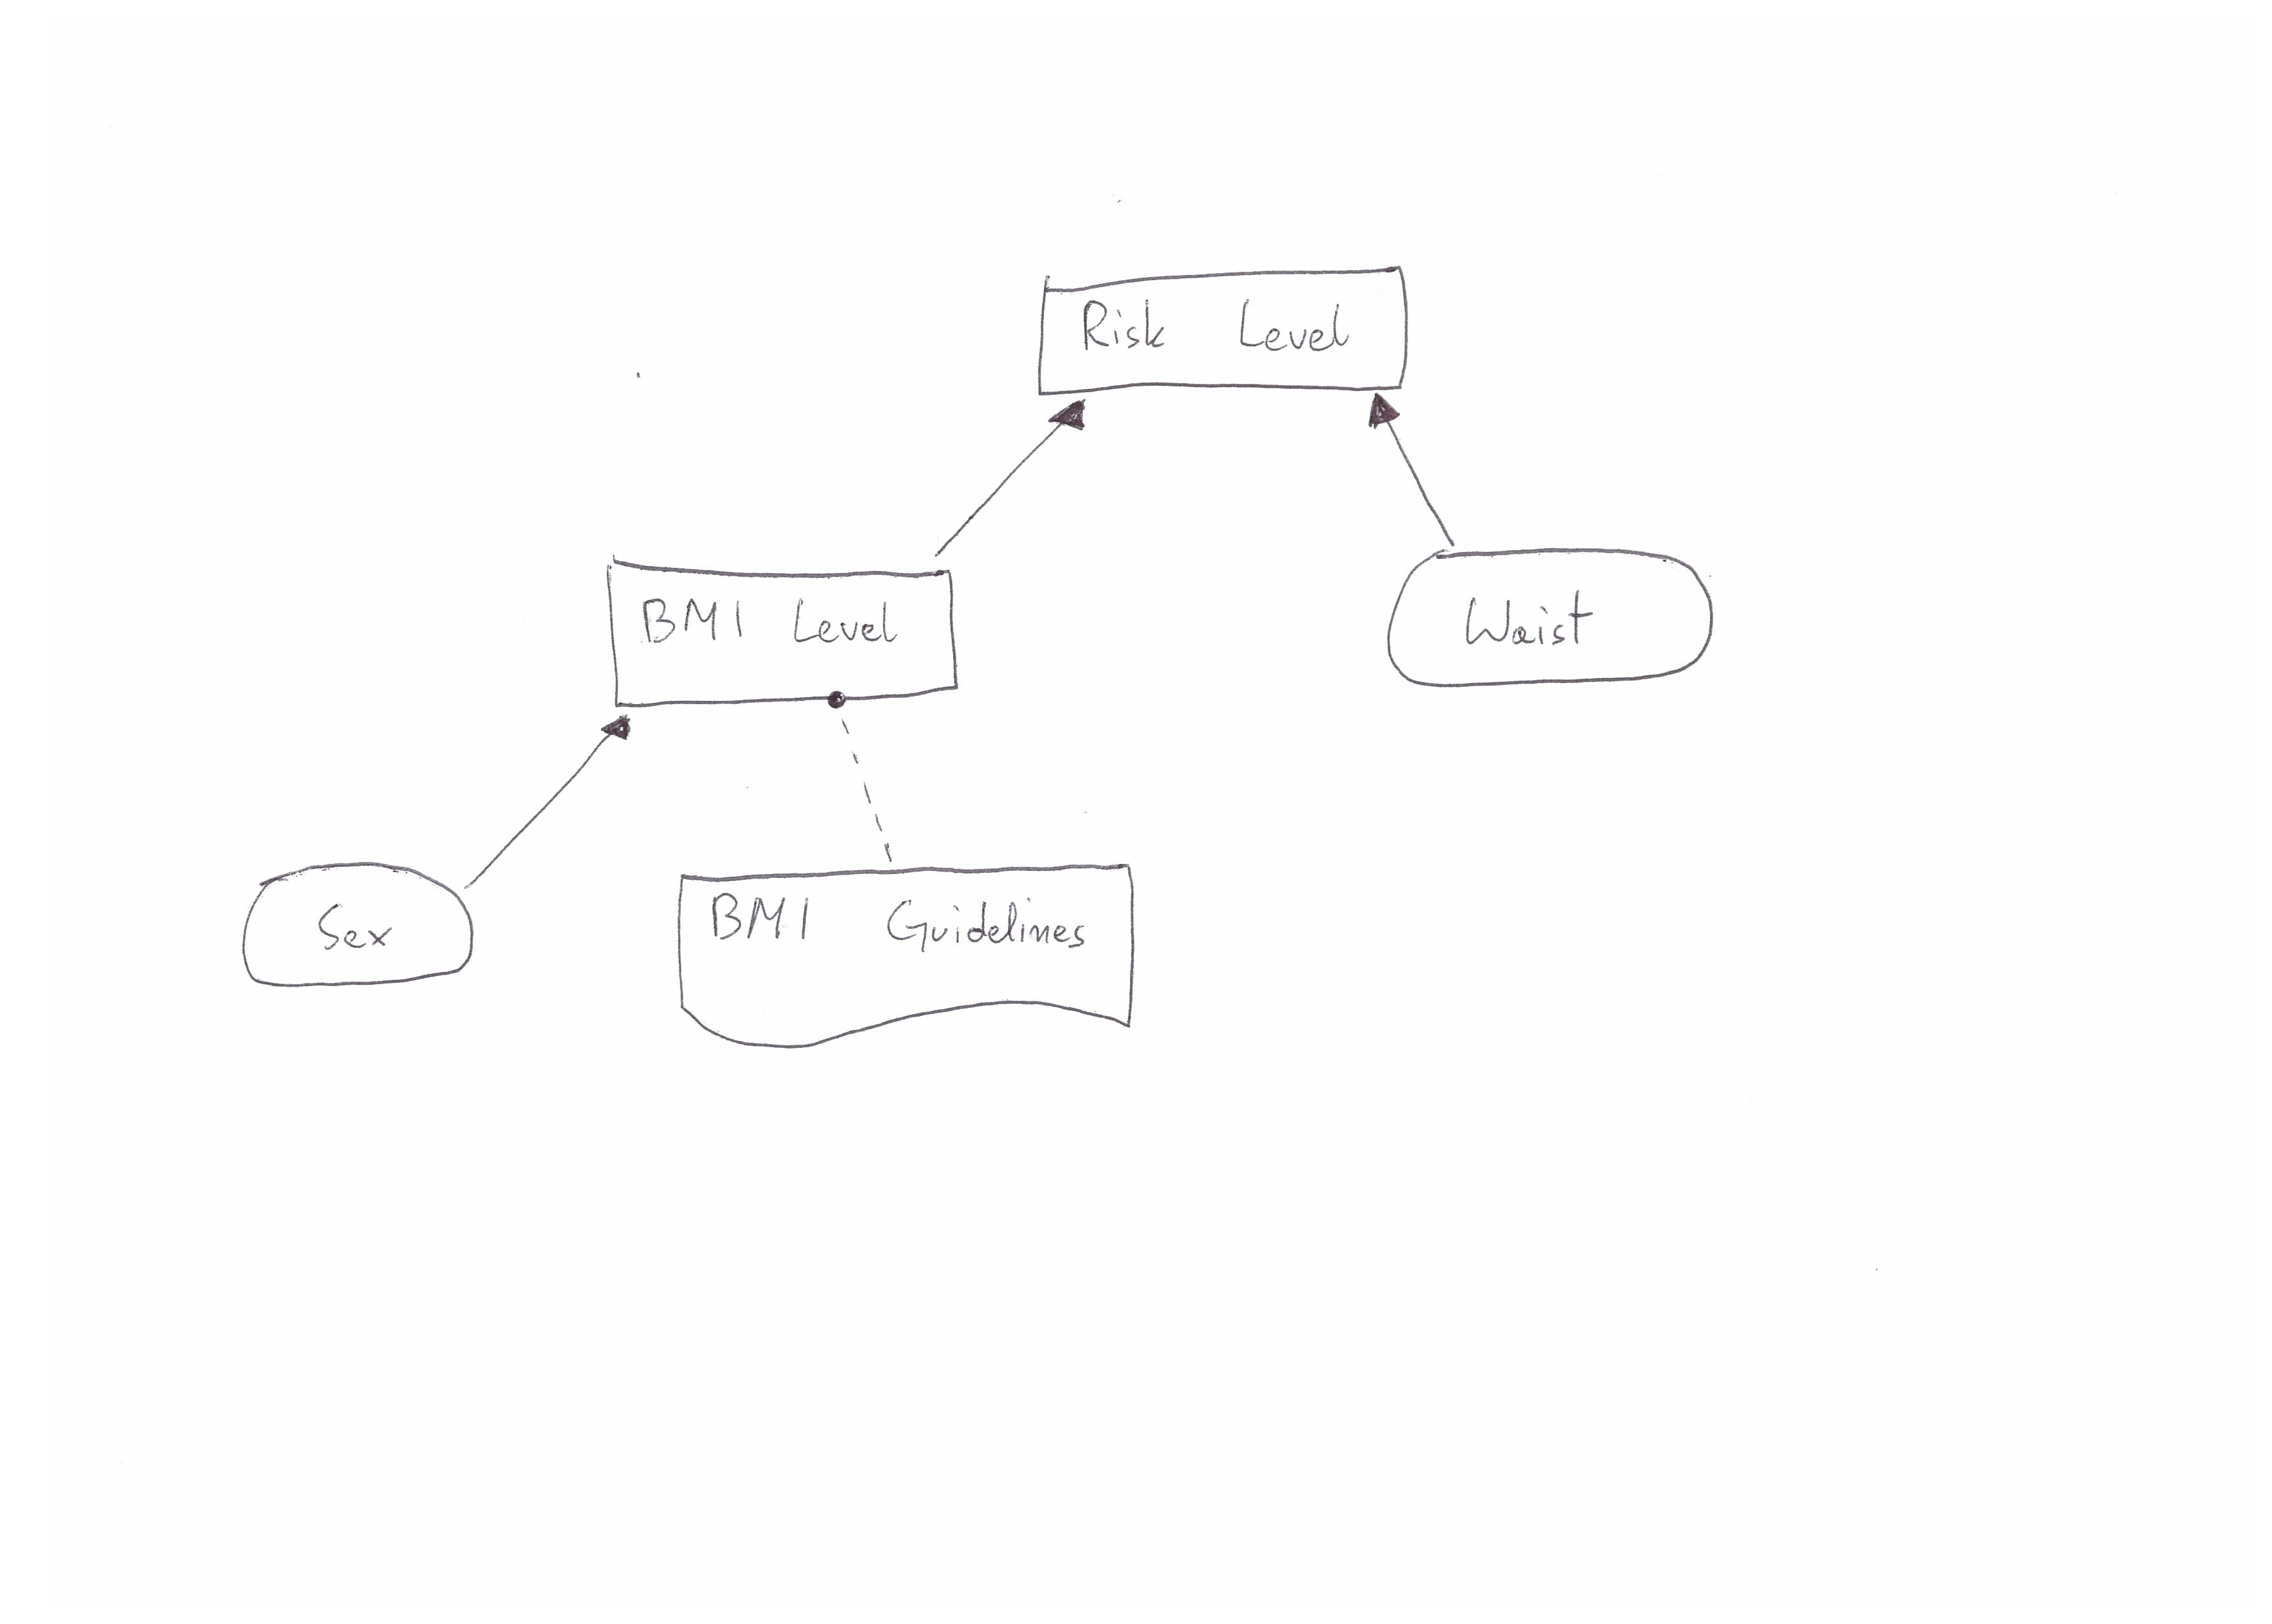arrow_authority_requirement: (803, 685, 914, 870)
arrow_information_requirement: (453, 707, 641, 895), (923, 395, 1105, 564), (1351, 388, 1465, 554)
node_decision: (589, 552, 968, 710), (1028, 258, 1420, 397)
node_input_data: (1378, 543, 1743, 700), (234, 856, 480, 1005)
node_knowledge_source: (669, 863, 1160, 1058)
text: (703, 886, 1102, 975), (624, 585, 923, 661), (1072, 294, 1362, 367), (1439, 580, 1625, 668), (299, 896, 413, 968)
